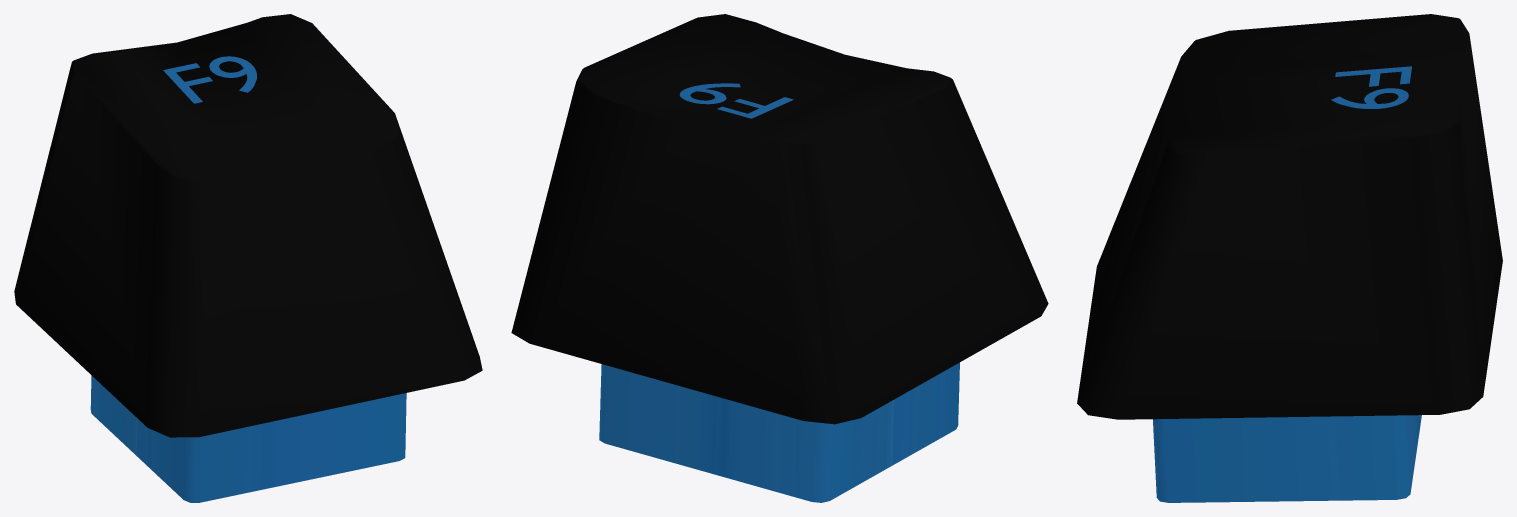
Rendered from f9-D-gLi_mi.glb.
3 renders of one model, left to right at view 1: azimuth 30°, elevation 25°; view 2: azimuth 150°, elevation 25°; view 3: azimuth 270°, elevation 25°, orthographic. The views are drawn at different scales.
Visible parts, largest first — view 1: StudyShelf_1117; view 2: StudyShelf_1117; view 3: StudyShelf_1117.
Part boxes in pixels (x1,y1,x2,y2): StudyShelf_1117: (14,14,482,502); StudyShelf_1117: (511,14,1048,502); StudyShelf_1117: (1077,14,1502,502).
Size of the model in its own units: 4.35 by 4.28 by 4.35.
2 materials, 1 textured.
